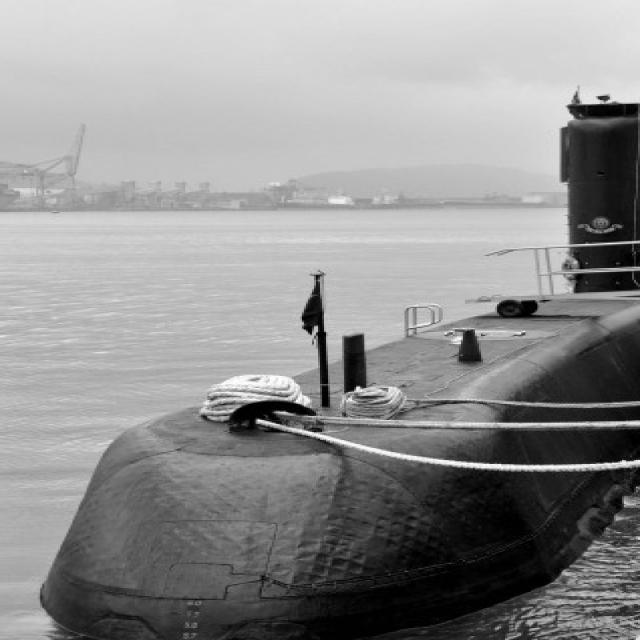submarine: (31, 51, 640, 640)
